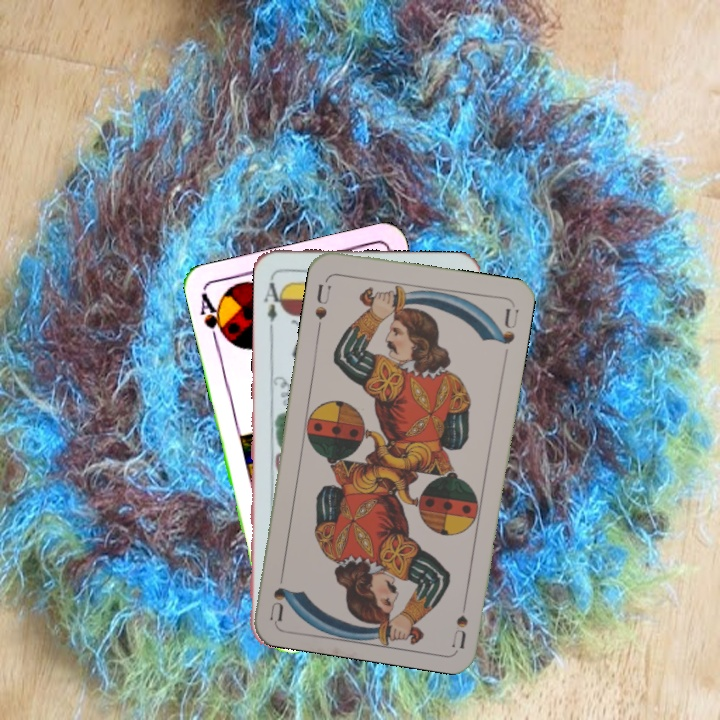EA: (260, 273, 287, 332)
SA: (196, 289, 231, 347)
SU: (448, 590, 471, 649), (311, 280, 334, 333)
